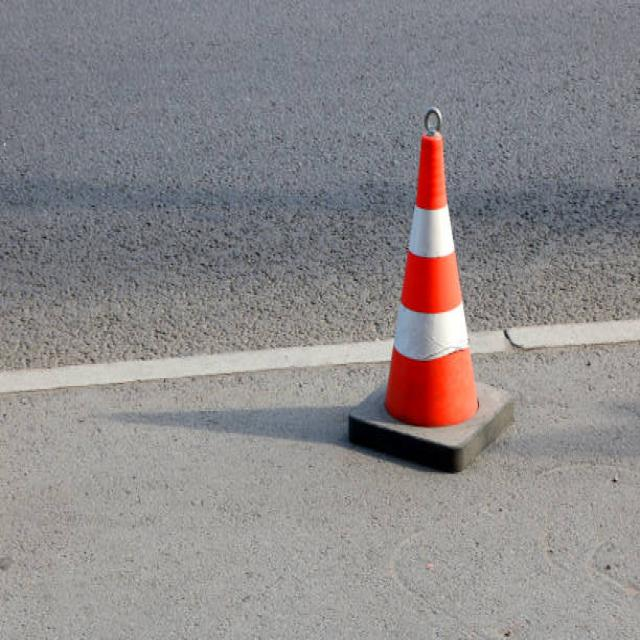Traffic Cone: (337, 82, 530, 488)
